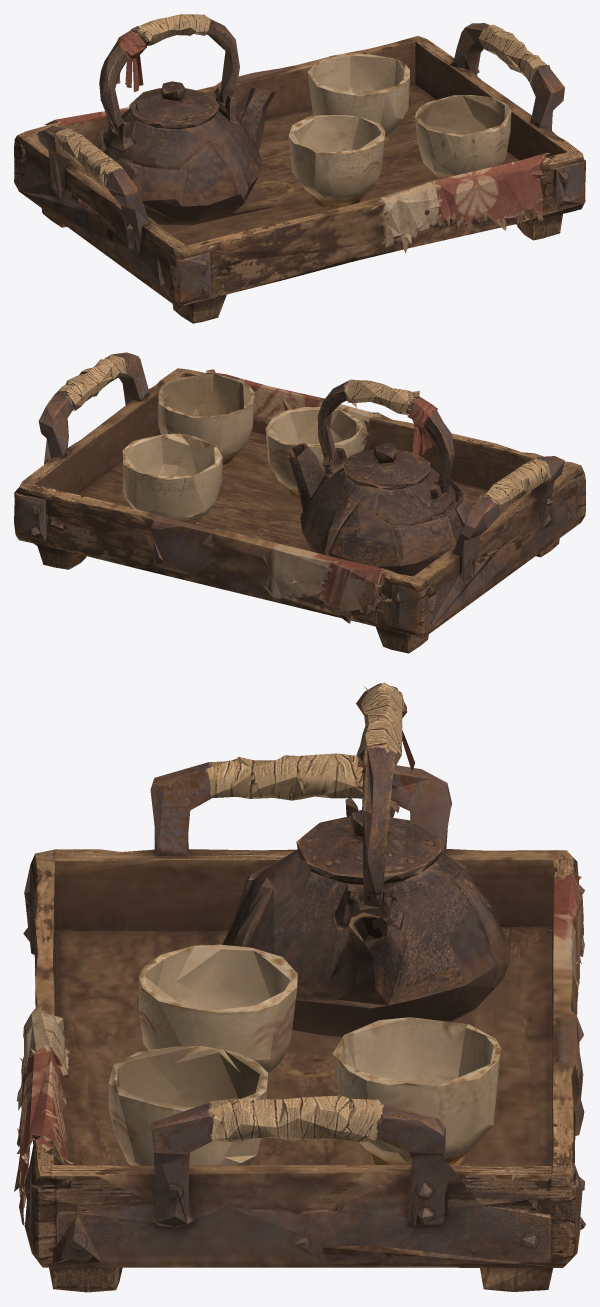
Rendered from used-teaset.glb.
The picture shows the model from 3 angles, top to bottom: view 1: azimuth 30°, elevation 25°; view 2: azimuth 150°, elevation 25°; view 3: azimuth 270°, elevation 25°; orthographic projection. The views are drawn at different scales.
Visible parts, largest first — view 1: output_unwrapped; view 2: output_unwrapped; view 3: output_unwrapped.
Boxes of the visible parts, <box> form: output_unwrapped: <box>14,14,585,323</box>; output_unwrapped: <box>14,352,585,653</box>; output_unwrapped: <box>14,682,585,1292</box>.
Bounding box in the file's own units: 0.35 × 0.1612 × 0.2356.
1 material, 1 textured.
